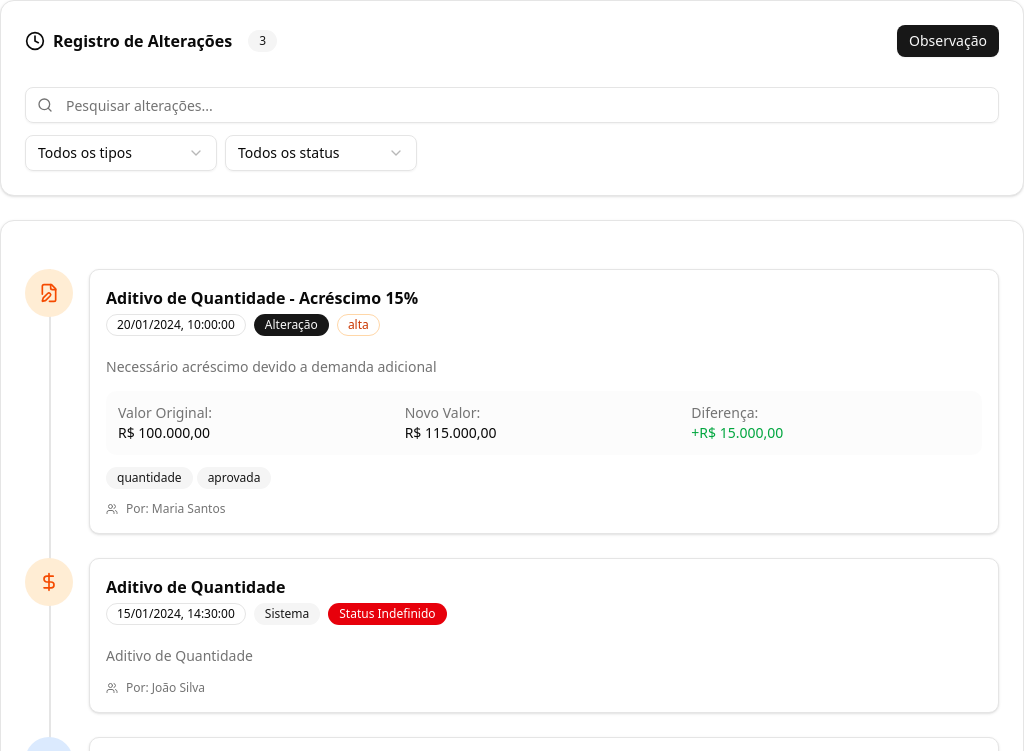
Test case: RegistroAlteracoes › Filtros e pesquisa › deve mostrar mensagem quando nenhuma entrada é encontrada
The width and height of the screenshot is (1024, 751).
In the field with placeholder "Pesquisar alterações...": (512, 105) [25,87,999,123], type "inexistente"
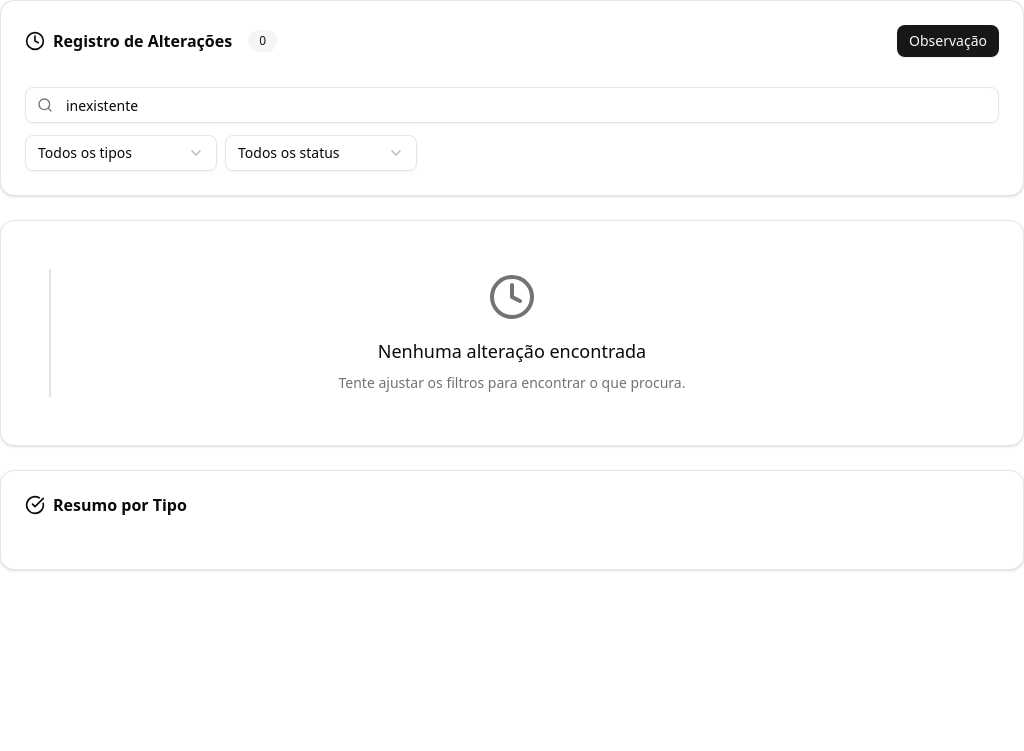
Now the heading "Nenhuma alteração encontrada" is shown, box [378,339,646,363]
